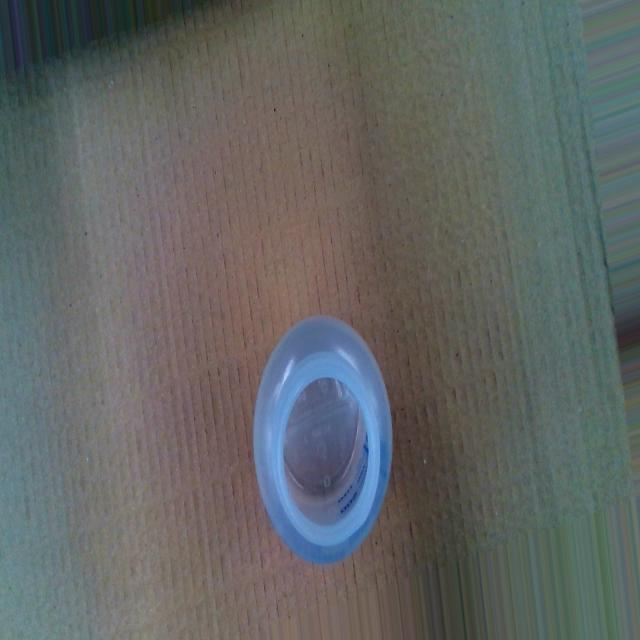bottle: (253, 314, 395, 562)
